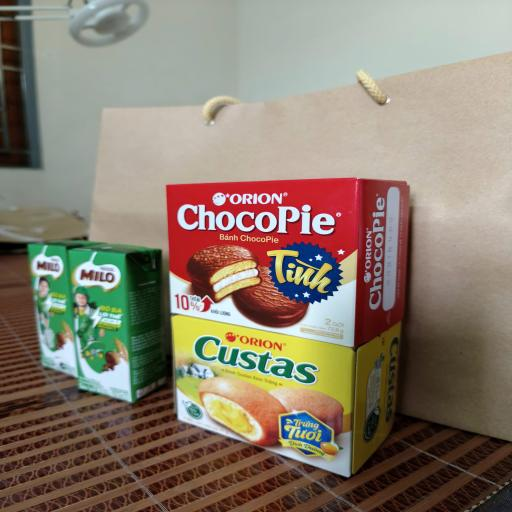chocopie: (165, 178, 410, 348)
custas: (170, 314, 402, 478)
milo: (66, 241, 166, 404), (26, 240, 107, 378)
